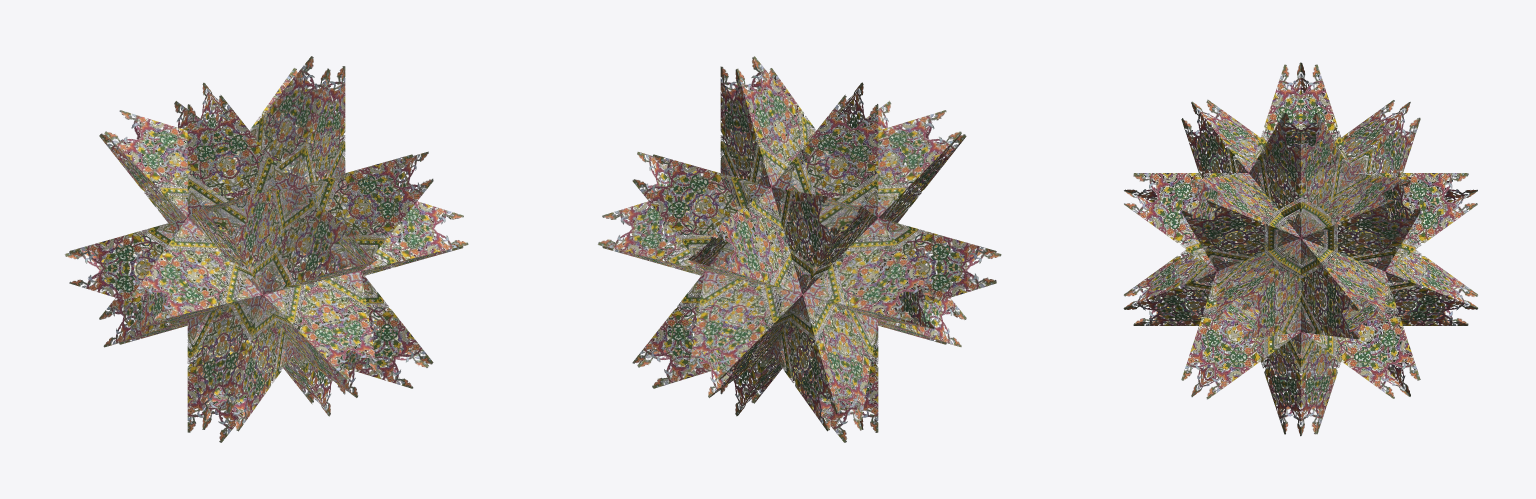
The model's file is GreatStellatedDodecahedron2.obj.
The picture shows the model from 3 angles, left to right: view 1: azimuth 30°, elevation 25°; view 2: azimuth 150°, elevation 25°; view 3: azimuth 270°, elevation 25°; orthographic projection. The views are drawn at different scales.
Bounding box in the file's own units: 1 × 1 × 1.
1 material, 1 textured.
